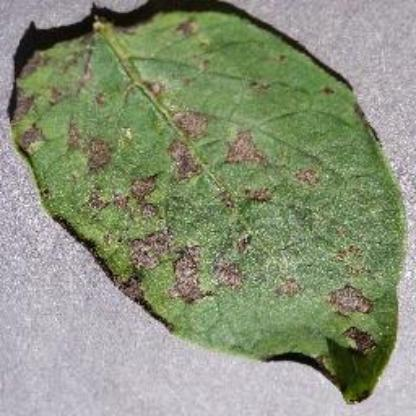Early-Blight: (9, 7, 409, 407)
